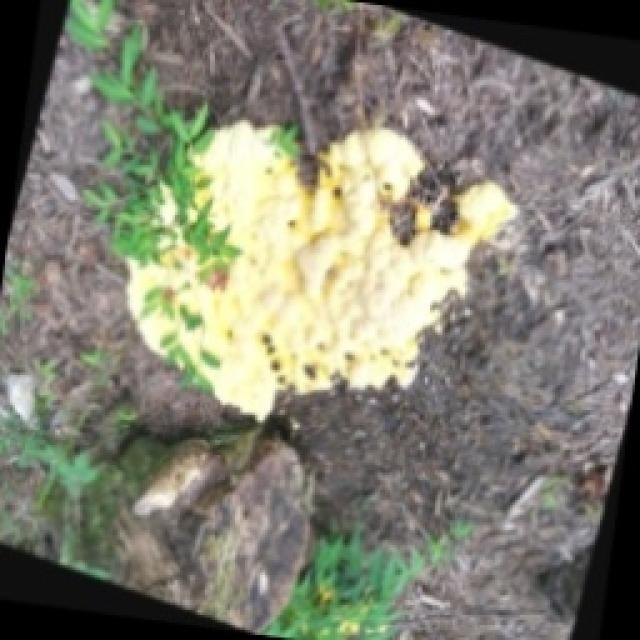Dog_vomit_slime_mold: (92, 95, 581, 415)
